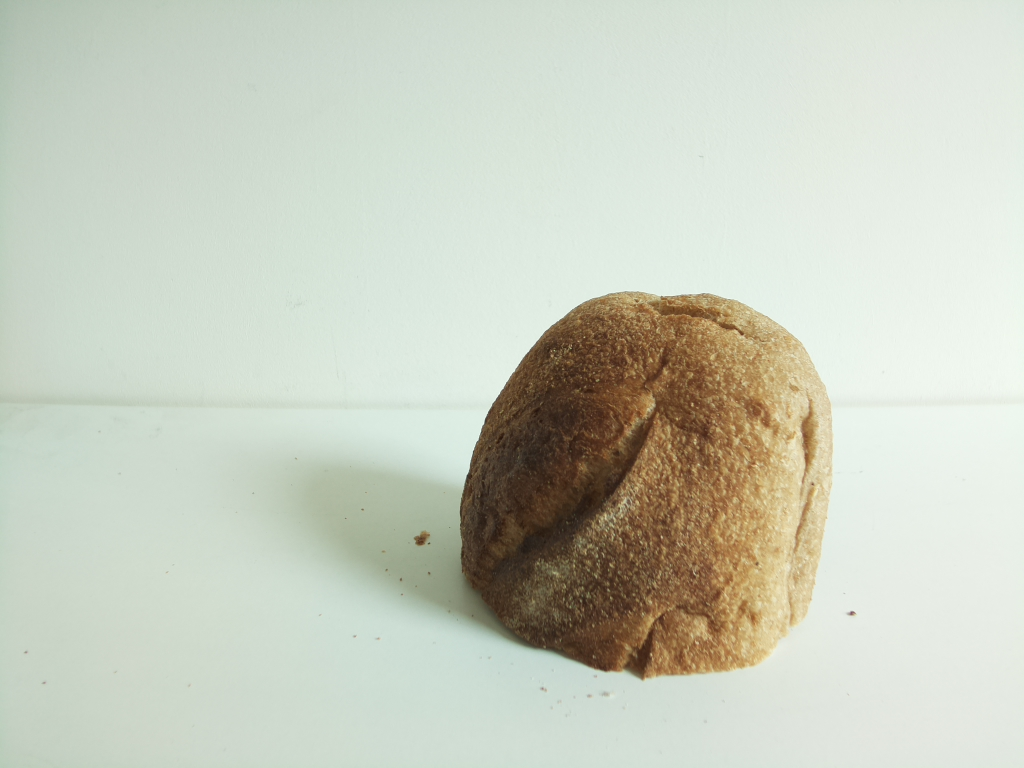bread: (459, 291, 840, 677)
